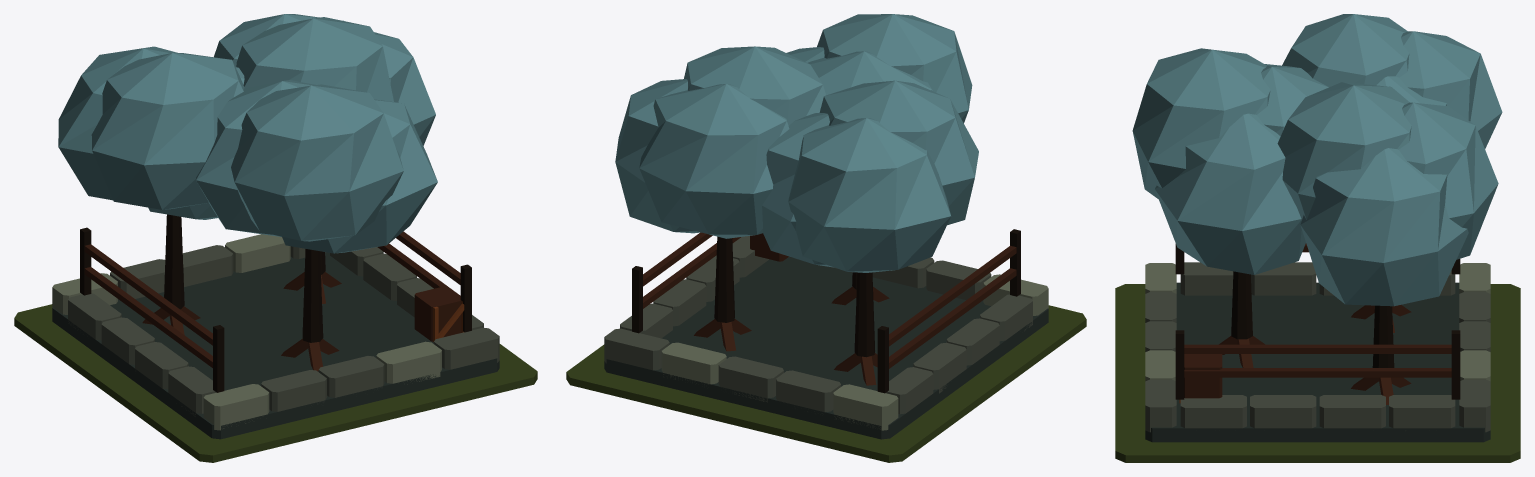
File: frostgrove_t6.glb
3 views of the same model, side by side, from view 1: azimuth 30°, elevation 25°; view 2: azimuth 150°, elevation 25°; view 3: azimuth 270°, elevation 25° (orthographic). The views are drawn at different scales.
Parts seen in each view (by area): view 1: MMR | frostgrove | T06 Architecture.001, MMR | frostgrove | Tier 06 Ground.001; view 2: MMR | frostgrove | T06 Architecture.001, MMR | frostgrove | Tier 06 Ground.001; view 3: MMR | frostgrove | T06 Architecture.001, MMR | frostgrove | Tier 06 Ground.001.
Boxes of the visible parts, left/top/right/bottom form: MMR | frostgrove | T06 Architecture.001: left=52, top=14, right=499, bottom=439; MMR | frostgrove | Tier 06 Ground.001: left=14, top=304, right=537, bottom=462; MMR | frostgrove | T06 Architecture.001: left=604, top=14, right=1048, bottom=439; MMR | frostgrove | Tier 06 Ground.001: left=566, top=305, right=1086, bottom=462; MMR | frostgrove | T06 Architecture.001: left=1132, top=14, right=1502, bottom=442; MMR | frostgrove | Tier 06 Ground.001: left=1115, top=284, right=1520, bottom=462.
Bounding box in the file's own units: 2.43 × 2.04 × 2.35.
1 material, 1 textured.
